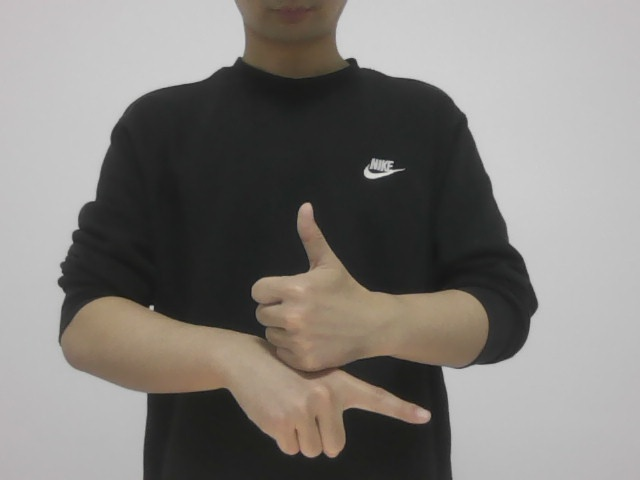birthday: (222, 198, 445, 461)
